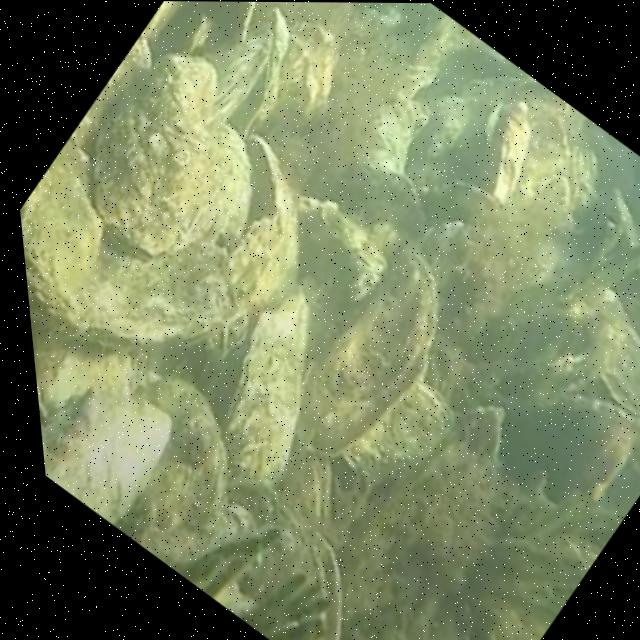Oyster-Closed: (229, 135, 299, 322)
Oyster-Indeterminate: (20, 125, 249, 351), (302, 234, 434, 456), (102, 55, 221, 253), (42, 397, 178, 526), (228, 294, 308, 488), (136, 372, 228, 532), (262, 26, 336, 145), (585, 290, 640, 415), (216, 20, 268, 122)
Oyster-Open: (189, 513, 346, 640), (458, 604, 500, 640)
